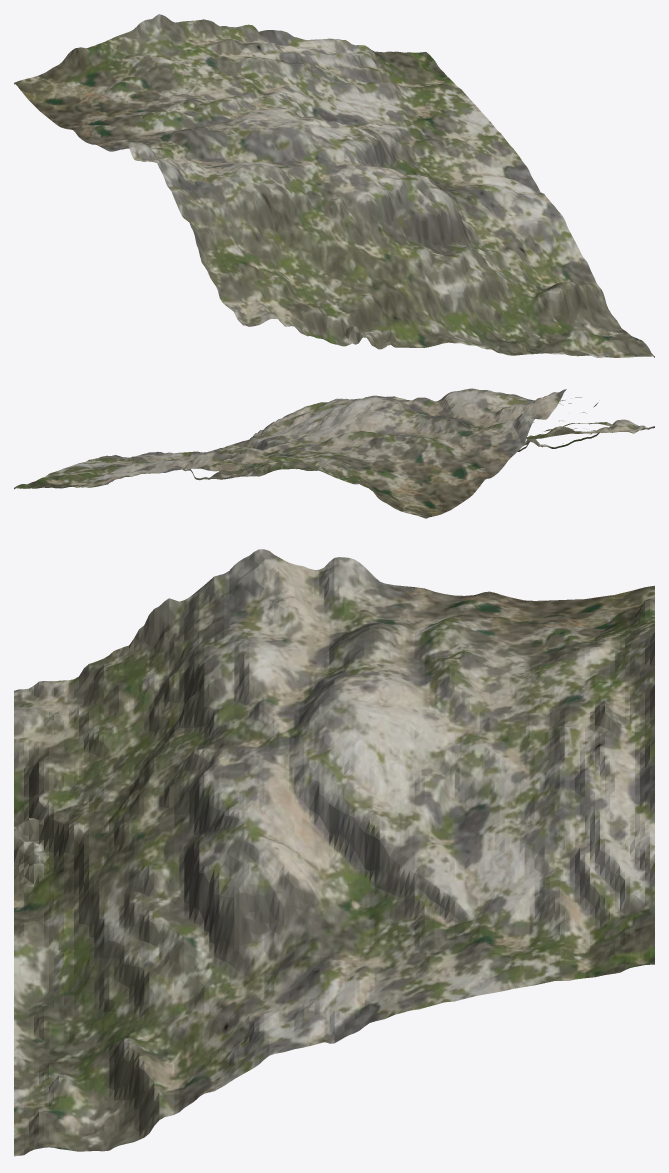
The picture shows the model from 3 angles, top to bottom: view 1: azimuth 30°, elevation 25°; view 2: azimuth 150°, elevation 25°; view 3: azimuth 270°, elevation 25°; orthographic projection. The views are drawn at different scales.
Size of the model in its own units: 250 by 140 by 241.
Materials: 1 (1 with a texture image).
